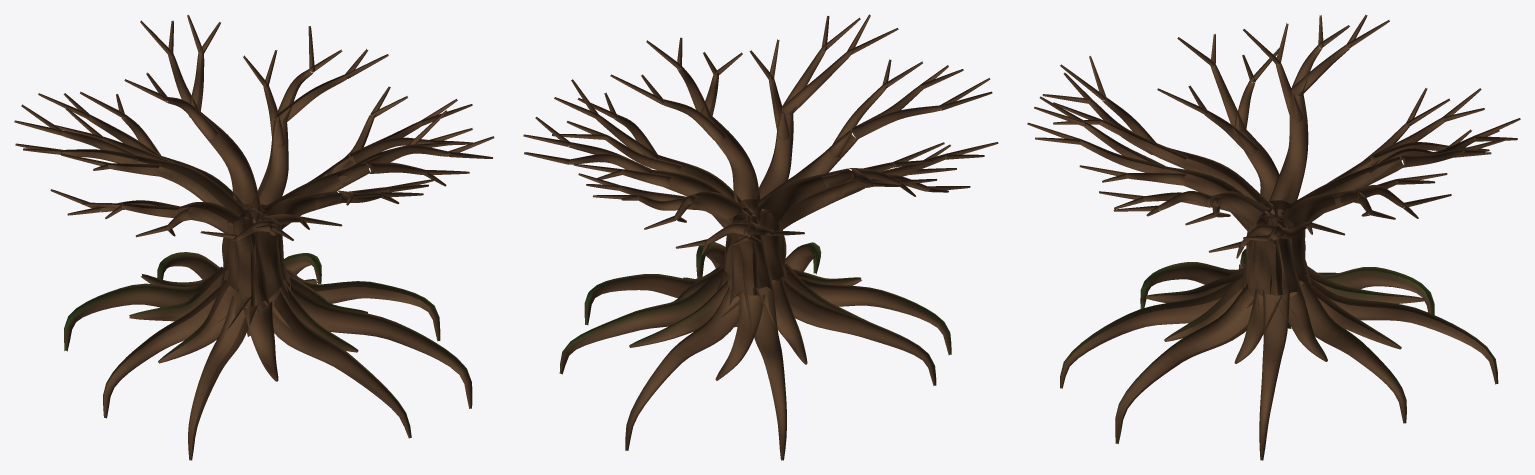
The model's file is albanexa-labs-assets.glb.
3 views of the same model, side by side, from view 1: azimuth 30°, elevation 25°; view 2: azimuth 150°, elevation 25°; view 3: azimuth 270°, elevation 25° (orthographic).
Parts seen in each view (by area): view 1: HeroTreeBark; view 2: HeroTreeBark; view 3: HeroTreeBark.
Part boxes in pixels (x1,y1,x2,y2): HeroTreeBark: [14, 15, 494, 460]; HeroTreeBark: [523, 14, 998, 460]; HeroTreeBark: [1027, 14, 1520, 460].
Size of the model in its own units: 11.04 by 7.16 by 11.63.
